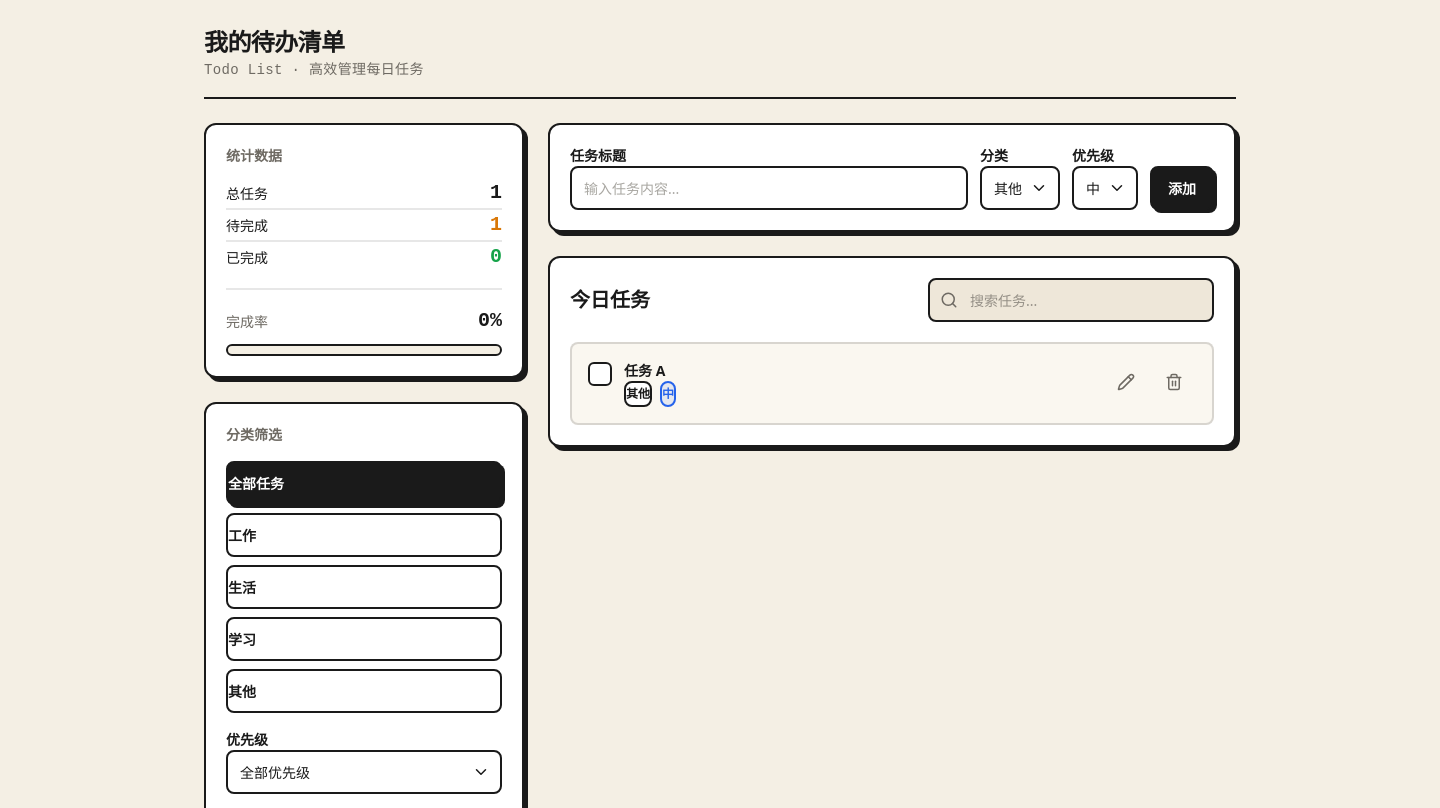
it: App 列表接入 › 确认删除后移除任务并弹出 Toast 反馈
The image size is (1440, 808).
Click the button named "删除「任务 A」". click: {"x": 1174, "y": 382}
box: [1152,360,1196,404]
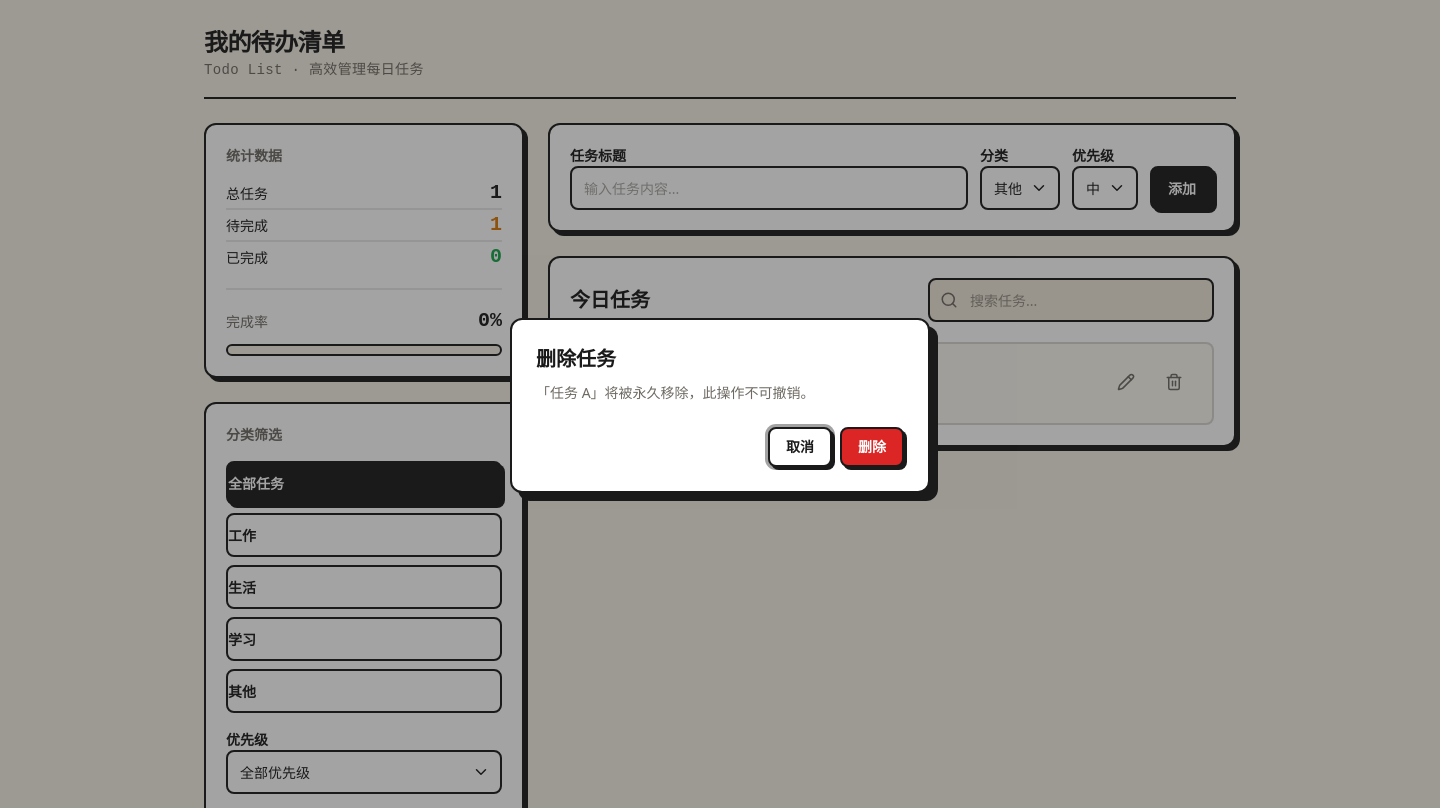
Click the button "删除". click: {"x": 872, "y": 446}
box: [840,426,904,466]
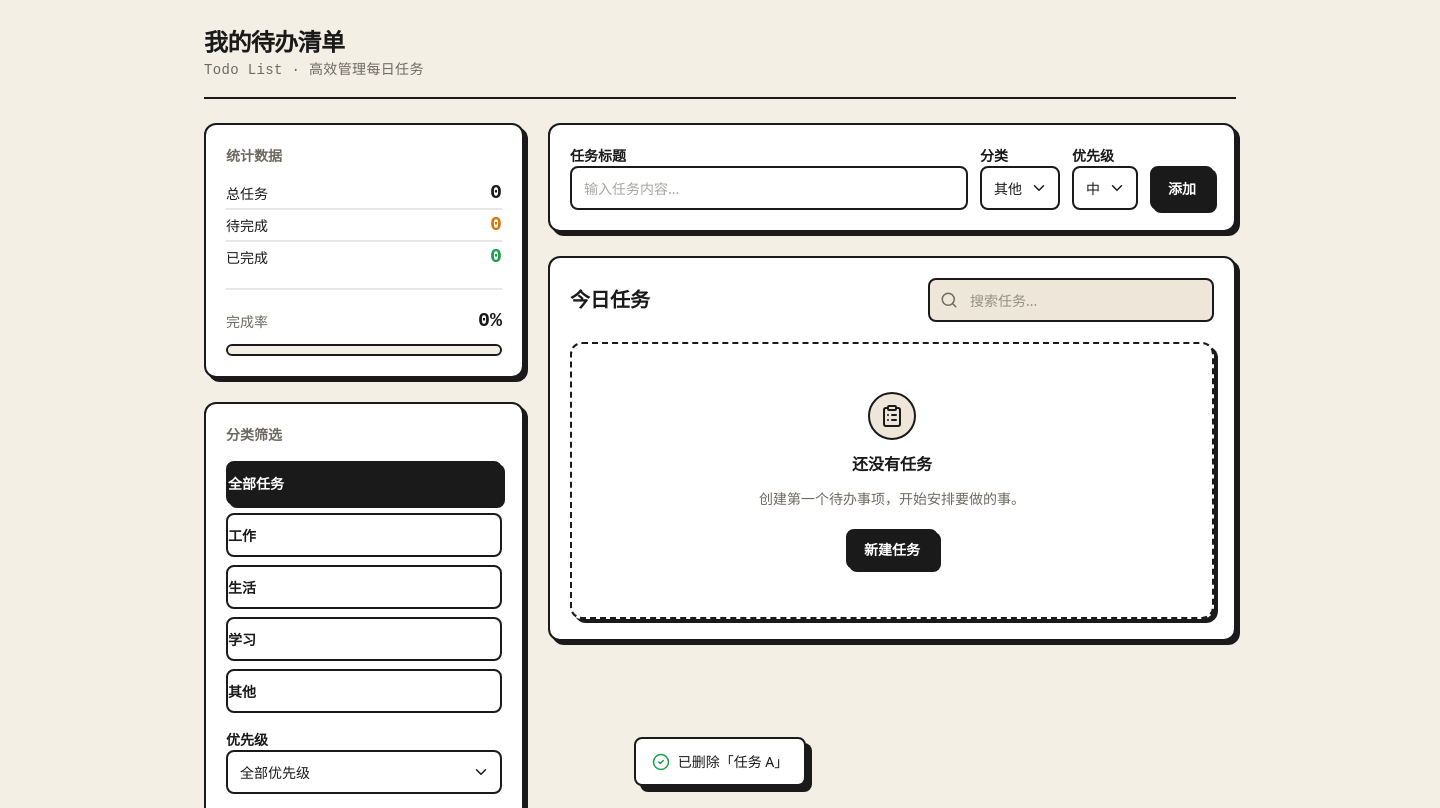
Expected: the message reads "已删除「任务 A」", [678,752,788,771]
Expected: the dialog is gone
